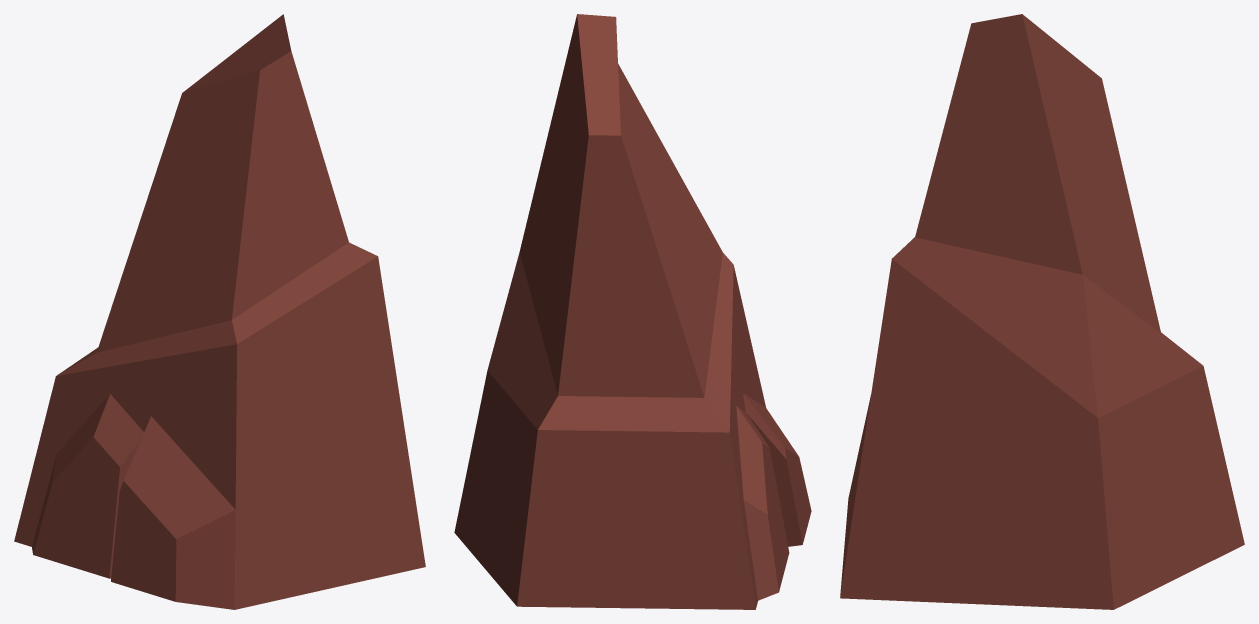
File: Stone6.fbx
3 views of the same model, side by side, from view 1: azimuth 30°, elevation 25°; view 2: azimuth 150°, elevation 25°; view 3: azimuth 270°, elevation 25° (orthographic). The views are drawn at different scales.
Visible parts, largest first — view 1: Circle.011; view 2: Circle.011; view 3: Circle.011.
Part boxes in pixels (x1,y1,x2,y2): Circle.011: [14, 14, 425, 609]; Circle.011: [454, 14, 811, 609]; Circle.011: [840, 14, 1244, 609].
Size of the model in its own units: 145 by 230 by 152.
